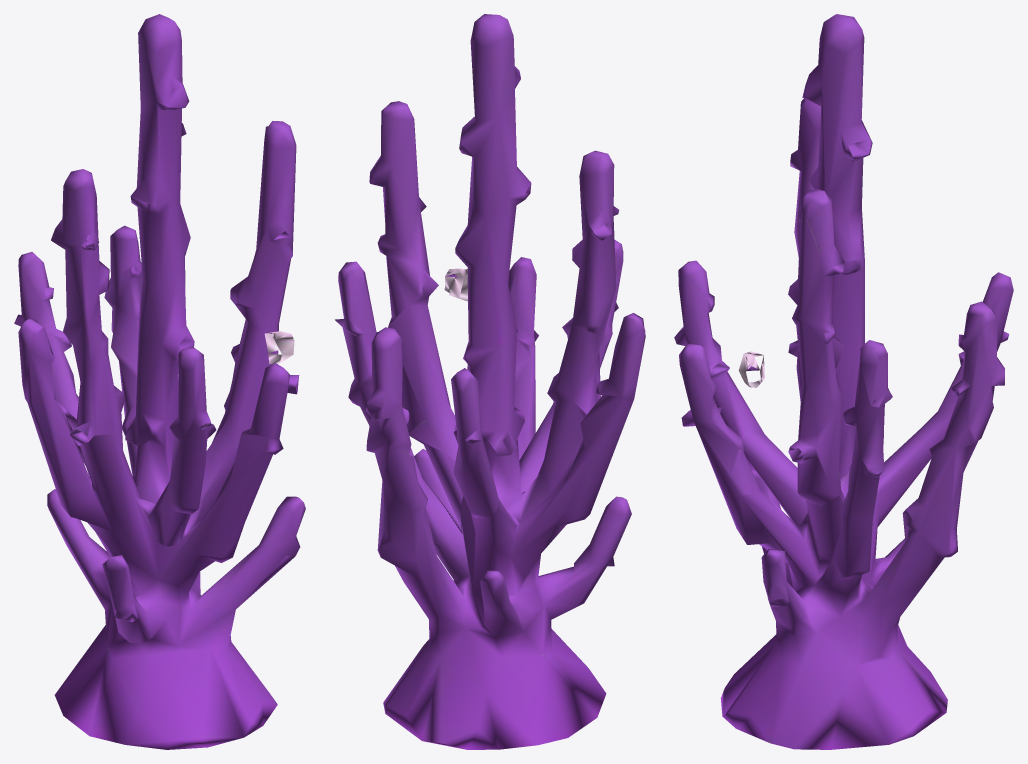
3 views of the same model, side by side, from view 1: azimuth 30°, elevation 25°; view 2: azimuth 150°, elevation 25°; view 3: azimuth 270°, elevation 25° (orthographic).
Bounding box in the file's own units: 0.8175 × 1.89 × 0.8443.
Materials: 1 (1 with a texture image).
